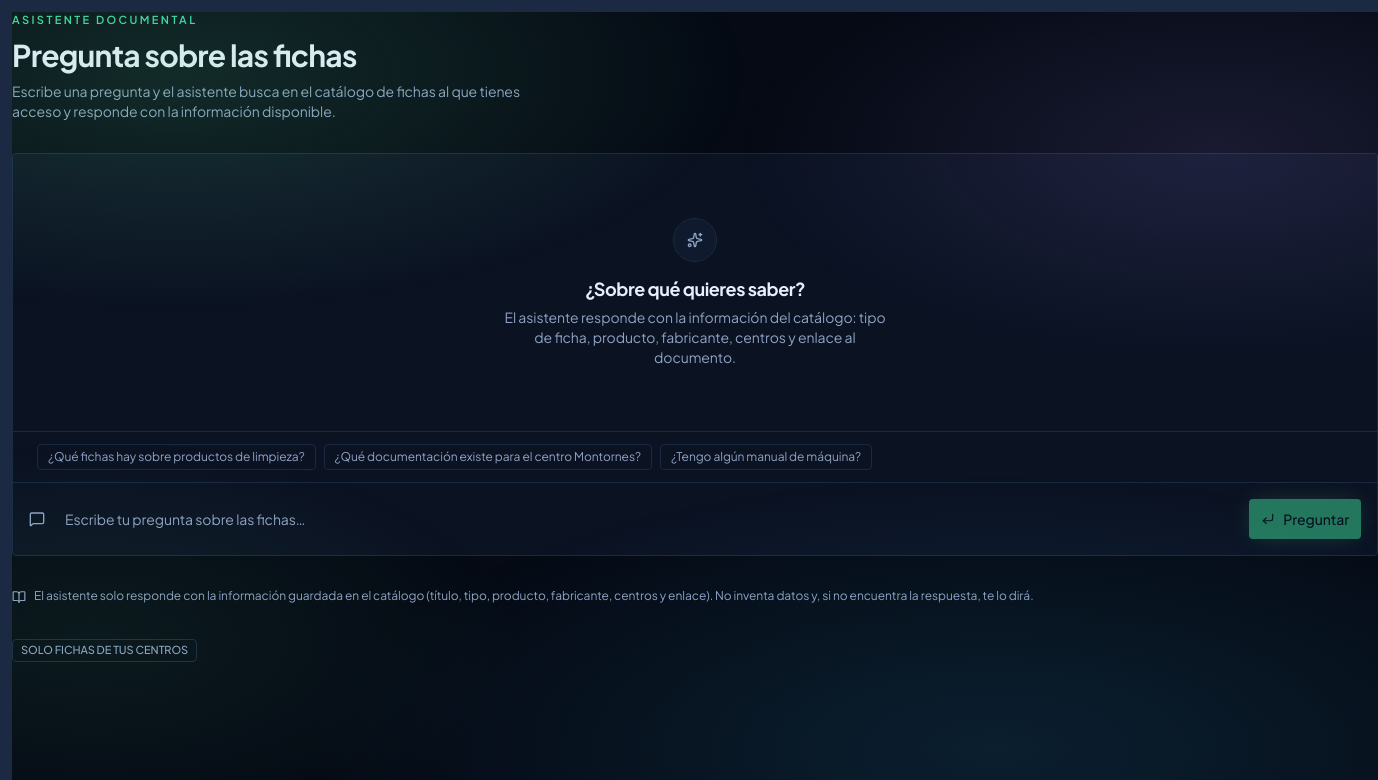
AsistenteSection › envía lo que se escribe en el campo
Step 1. Type "¿Qué hay de limpieza?" into the field with placeholder "Escribe tu pregunta sobre las fichas…" → (647, 519), box [53,499,1241,539]
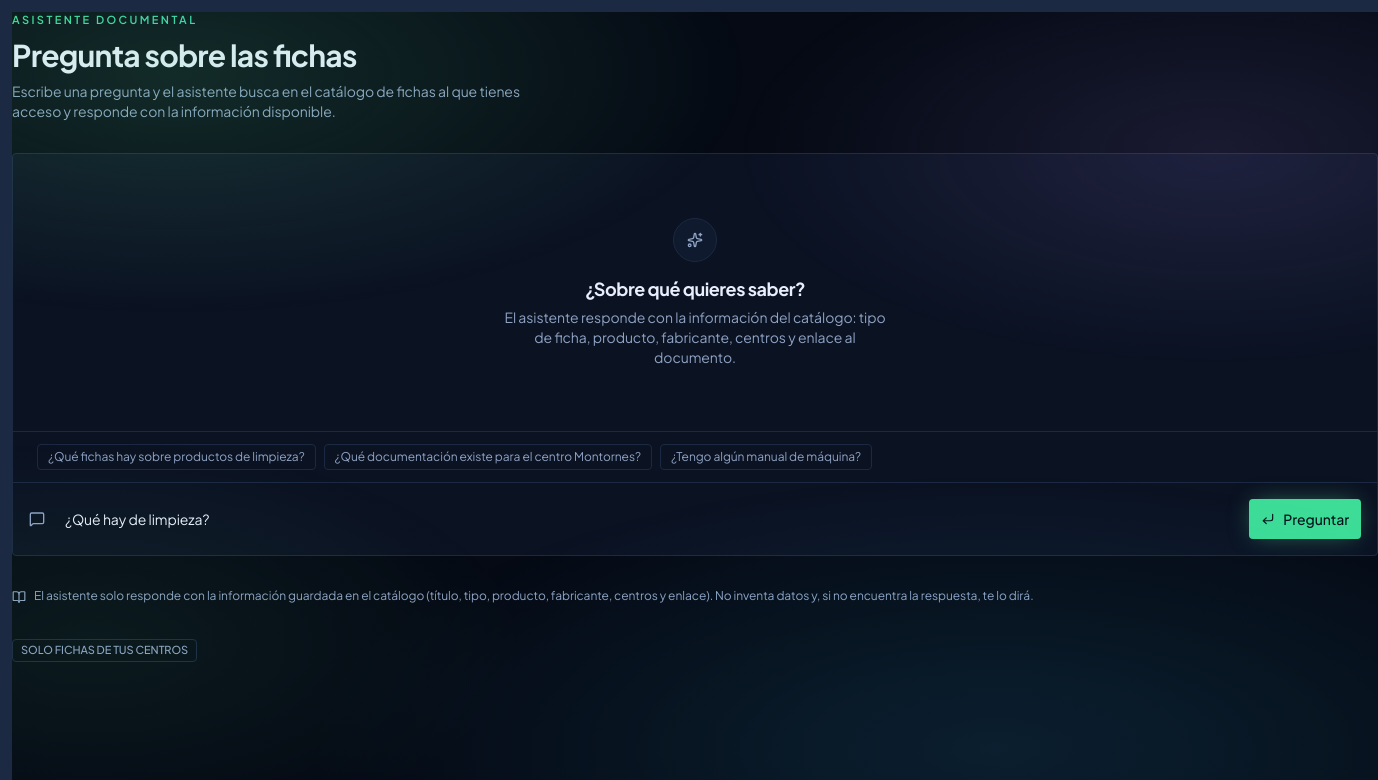
Step 2. Submit the form with placeholder "Escribe tu pregunta sobre las fichas…", box [13,482,1377,555]
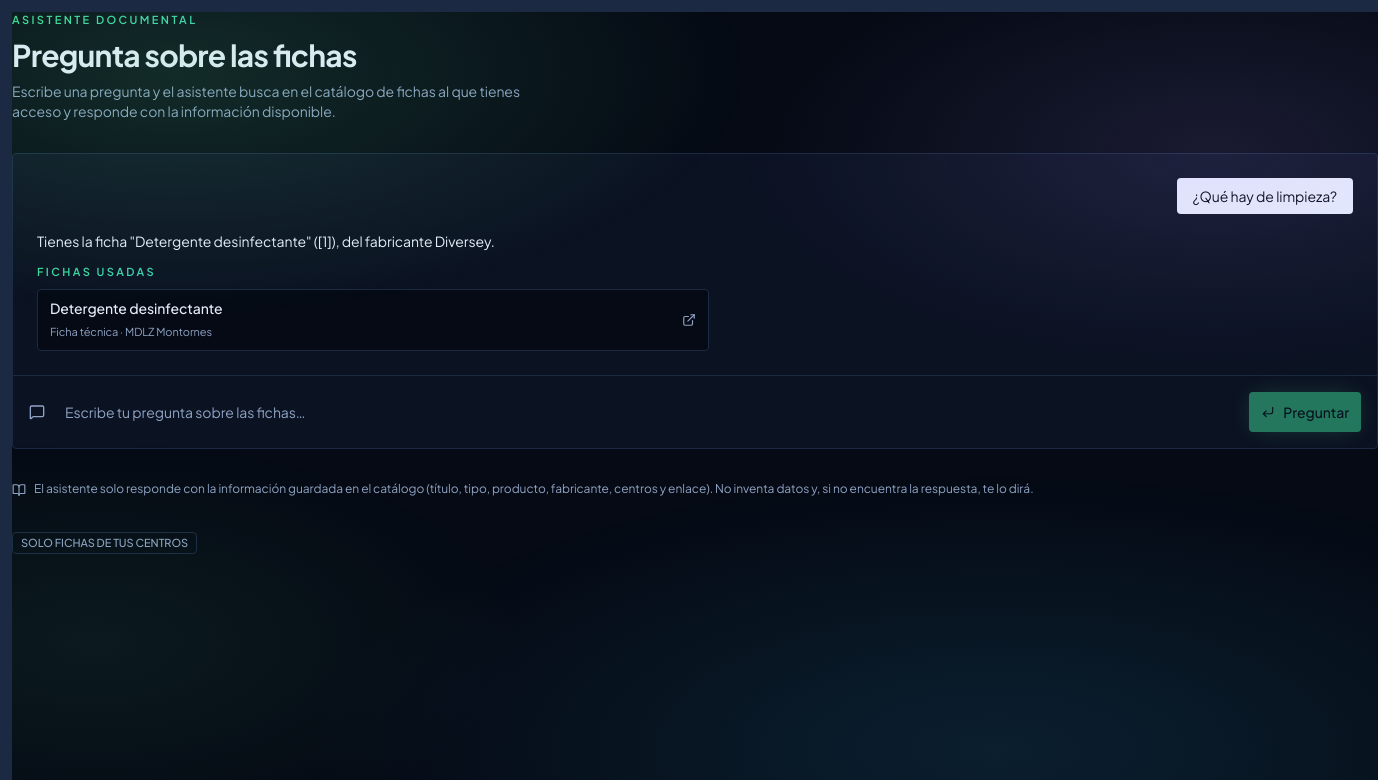
Now the text "¿Qué hay de limpieza?" is shown, box [1177,178,1353,214]
